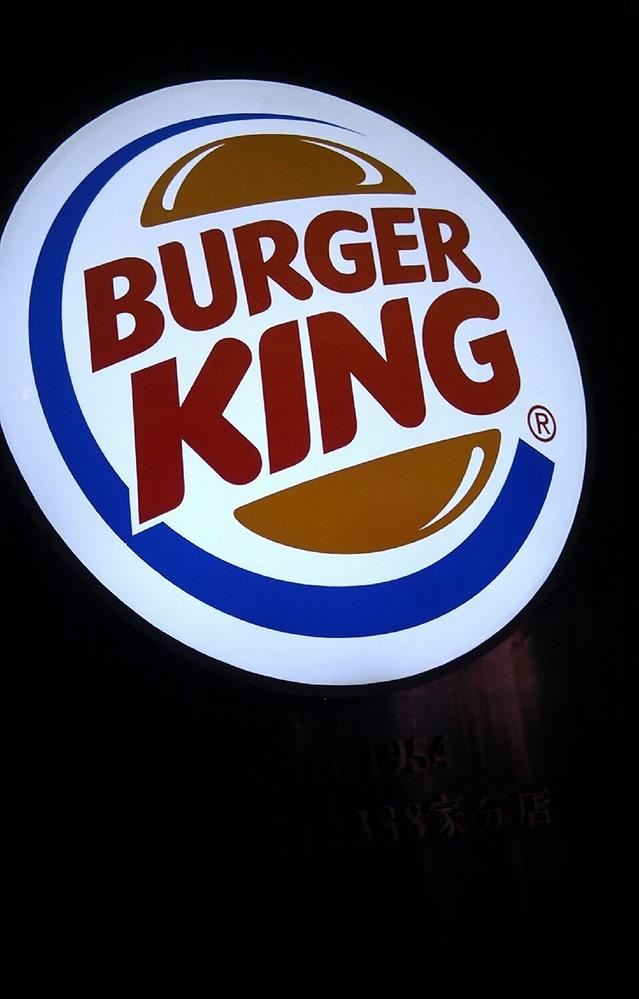Burger_King: (42, 125, 539, 690)
